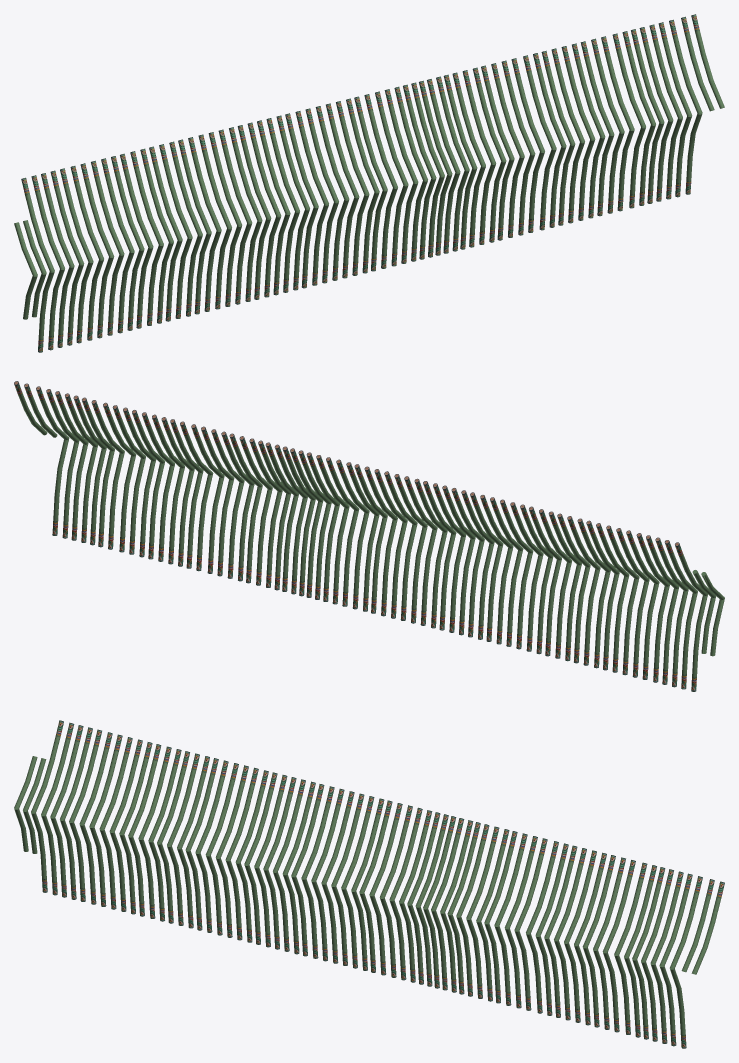
File: SM_SJJ_HG_Rafter01B.fbx
3 views of the same model, one above another, from view 1: azimuth 30°, elevation 25°; view 2: azimuth 150°, elevation 25°; view 3: azimuth 330°, elevation 25° (orthographic).
Parts seen in each view (by area): view 1: SM_SJJ_HG_Rafter01B; view 2: SM_SJJ_HG_Rafter01B; view 3: SM_SJJ_HG_Rafter01B.
Part boxes in pixels (x1,y1,x2,y2): SM_SJJ_HG_Rafter01B: [14, 14, 724, 352]; SM_SJJ_HG_Rafter01B: [14, 381, 724, 691]; SM_SJJ_HG_Rafter01B: [14, 720, 724, 1048].
Bounding box in the file's own units: 3761 × 293 × 843.
Materials: 1 (1 with a texture image).
